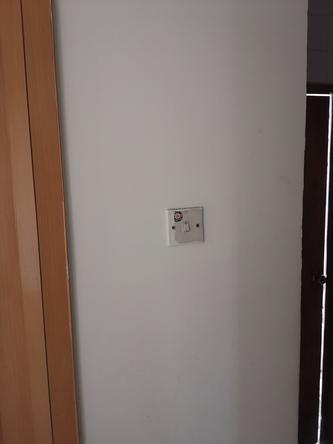switch: (178, 220, 194, 237)
